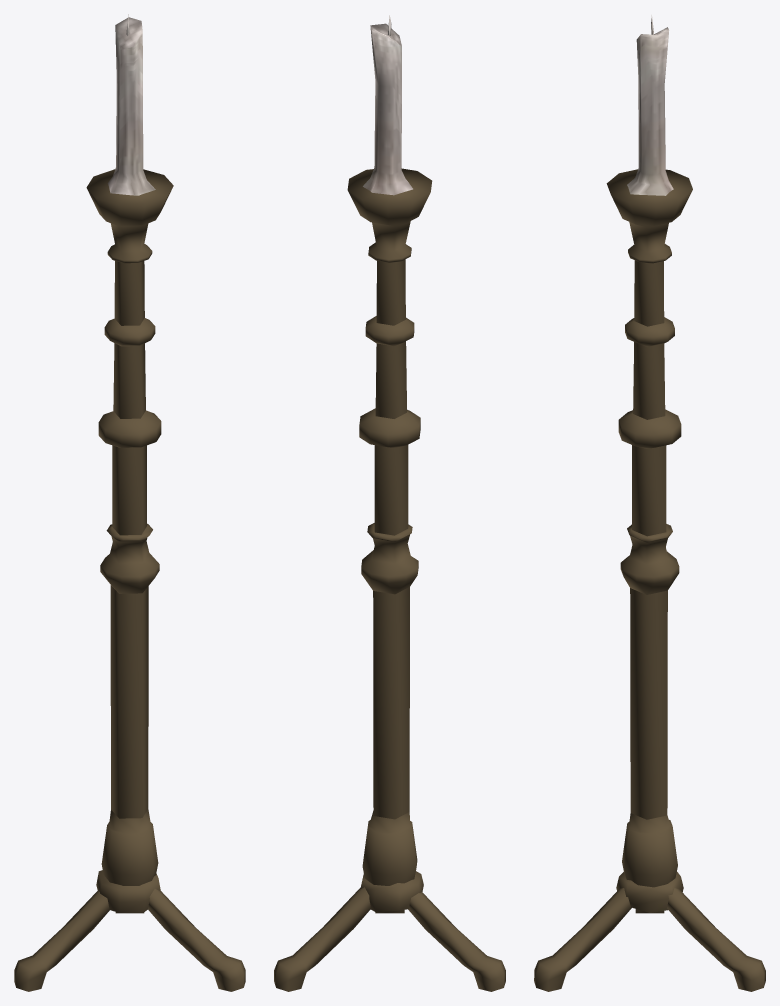
Rendered from AEG004_133-transformed.glb.
3 views of the same model, side by side, from view 1: azimuth 30°, elevation 25°; view 2: azimuth 150°, elevation 25°; view 3: azimuth 270°, elevation 25° (orthographic).
Visible parts, largest first — view 1: default; view 2: default; view 3: default.
Boxes of the visible parts, <box> form: default: <box>14,14,245,991</box>; default: <box>274,15,505,991</box>; default: <box>534,15,765,991</box>.
Size of the model in its own units: 0.3299 by 1.67 by 0.3699.
Materials: 1 (1 with a texture image).
